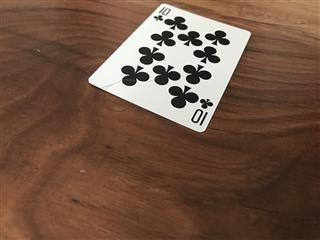TenOfClubs: (86, 2, 251, 132)
